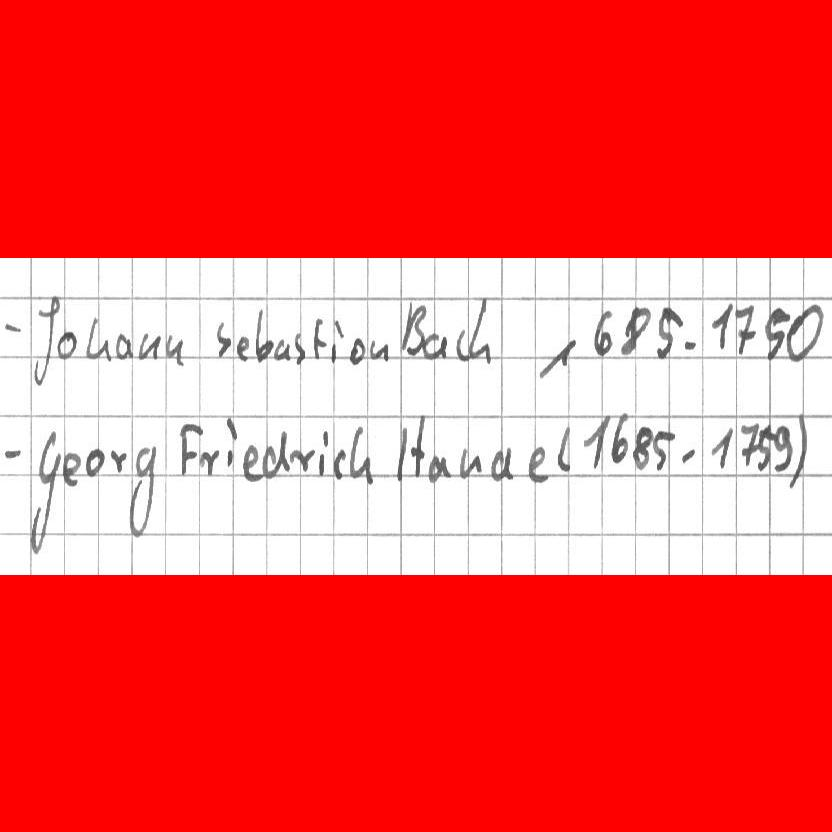Char: (31, 429, 60, 553), (127, 440, 157, 539), (32, 298, 60, 386), (784, 302, 823, 364), (538, 334, 577, 381), (788, 410, 810, 491), (620, 302, 650, 356), (469, 298, 493, 365), (763, 306, 791, 362), (653, 304, 680, 362), (581, 415, 608, 473), (260, 428, 290, 479), (400, 299, 426, 356), (348, 424, 372, 483), (83, 313, 110, 363), (177, 420, 199, 478), (608, 411, 629, 467), (735, 302, 757, 355), (590, 308, 613, 358), (710, 303, 733, 351), (710, 426, 734, 471), (754, 421, 776, 470), (488, 442, 514, 481), (410, 413, 426, 476), (252, 308, 271, 359), (651, 427, 672, 472), (527, 444, 549, 485), (773, 423, 790, 476), (632, 425, 651, 470), (222, 416, 238, 469), (741, 420, 759, 467), (555, 424, 572, 473), (62, 448, 82, 489), (241, 442, 261, 481), (289, 443, 313, 475), (138, 329, 162, 360), (458, 446, 482, 477), (421, 331, 448, 358), (329, 316, 344, 364), (165, 333, 186, 366), (54, 330, 77, 360), (311, 314, 325, 362), (428, 452, 450, 481), (368, 337, 392, 363), (214, 320, 230, 358), (199, 447, 220, 475), (395, 429, 407, 477), (113, 332, 133, 360), (348, 335, 366, 365), (108, 447, 128, 474), (85, 447, 103, 476), (272, 335, 291, 362), (331, 448, 346, 482), (455, 329, 470, 361), (234, 334, 251, 362), (319, 430, 329, 477), (292, 331, 306, 364), (2, 317, 24, 337), (2, 444, 23, 461), (682, 334, 698, 354), (679, 446, 695, 465)
